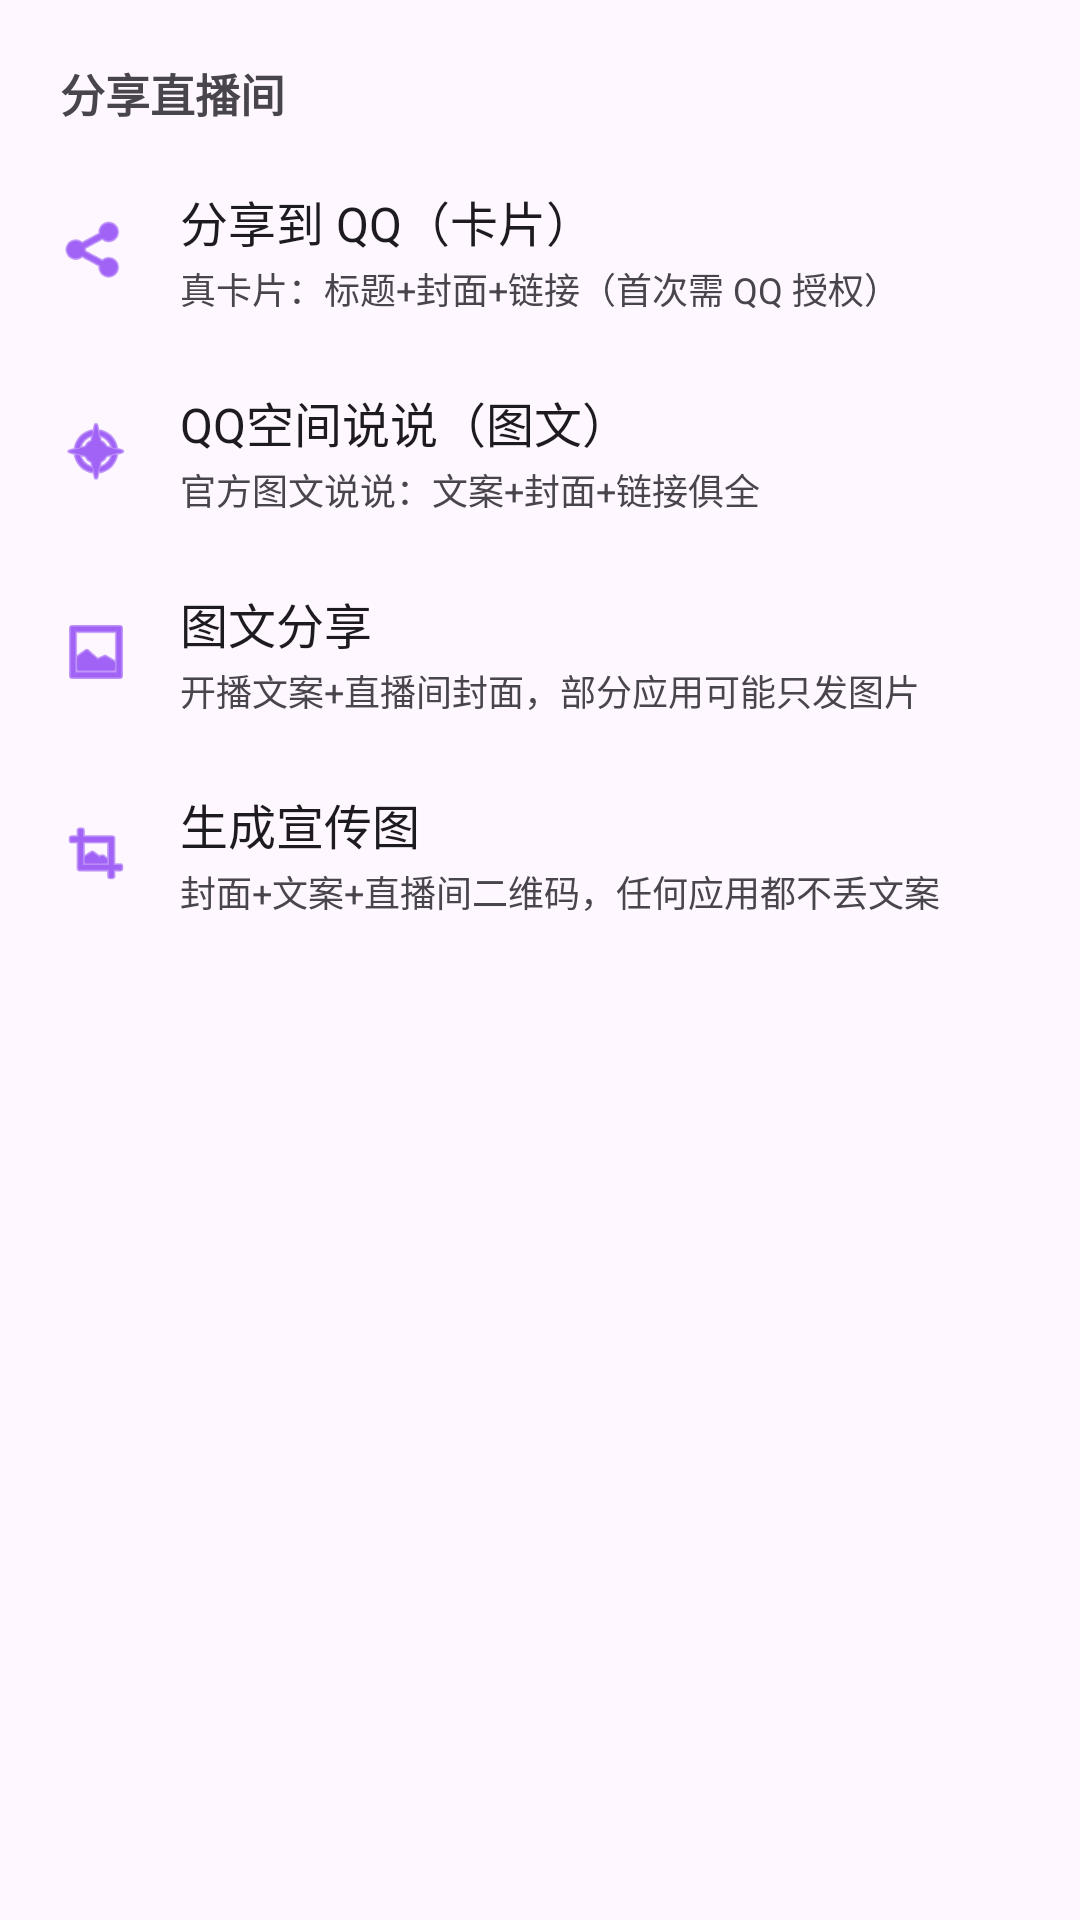

Named icons in this screenshot (1080x1920) and their bounding boxes, (x1, y1, x2, y2):
compass: (67, 423, 124, 480)
crop: (69, 827, 123, 879)
gallery: (69, 625, 123, 679)
share: (65, 221, 119, 278)
